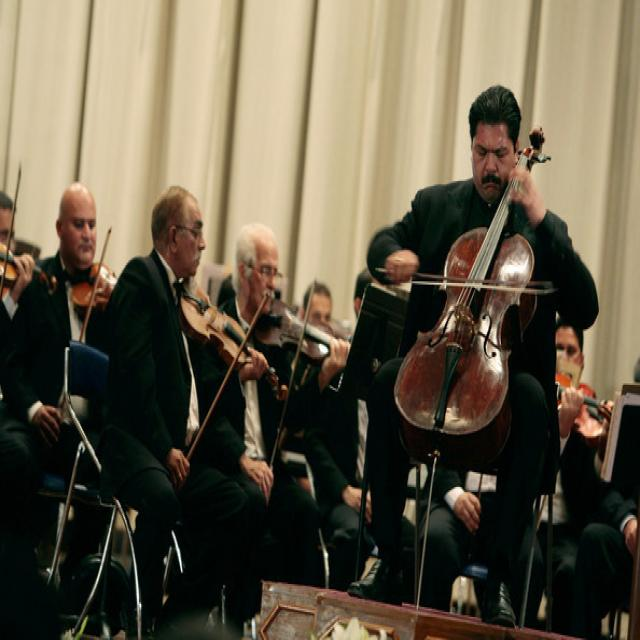cello: (392, 125, 556, 466)
violin: (174, 278, 291, 397), (248, 299, 360, 360), (546, 371, 618, 442), (68, 260, 134, 316), (0, 241, 59, 297)
